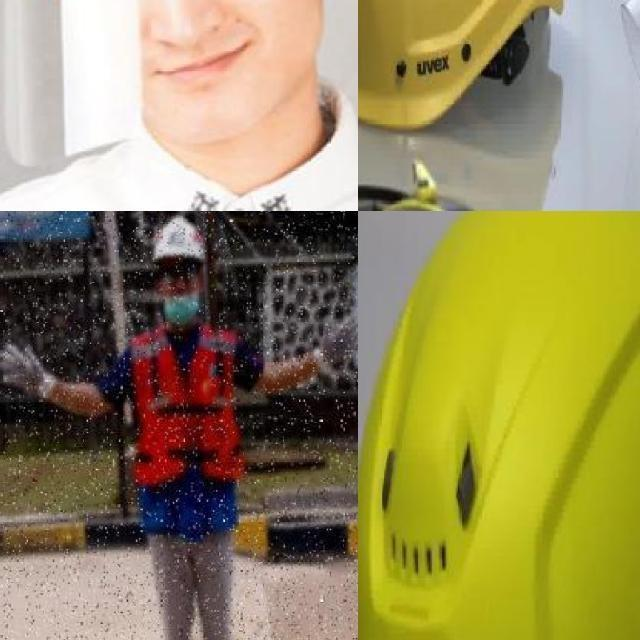apron: (0, 338, 55, 403), (311, 310, 358, 377)
